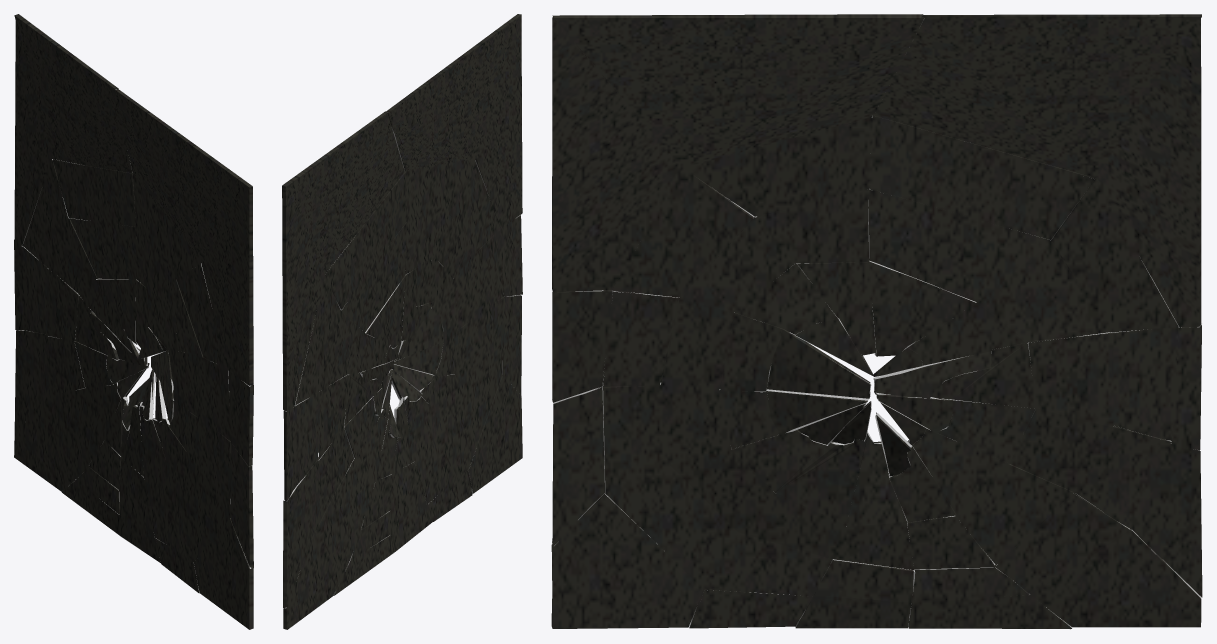
Rendered from 01_01_window_breakable_damaged.dae.
The picture shows the model from 3 angles, left to right: view 1: azimuth 30°, elevation 25°; view 2: azimuth 150°, elevation 25°; view 3: azimuth 270°, elevation 25°; orthographic projection. The views are drawn at different scales.
Parts seen in each view (by area): view 1: damaged, edge; view 2: damaged, edge; view 3: damaged, edge.
Part boxes in pixels (x1=…): damaged: x1=14, y1=14, x2=253, y2=629; edge: x1=14, y1=89, x2=251, y2=593; damaged: x1=282, y1=14, x2=522, y2=629; edge: x1=283, y1=112, x2=521, y2=608; damaged: x1=551, y1=14, x2=1202, y2=628; edge: x1=552, y1=14, x2=1201, y2=629.
Bounding box in the file's own units: 15.61 × 221 × 212.
